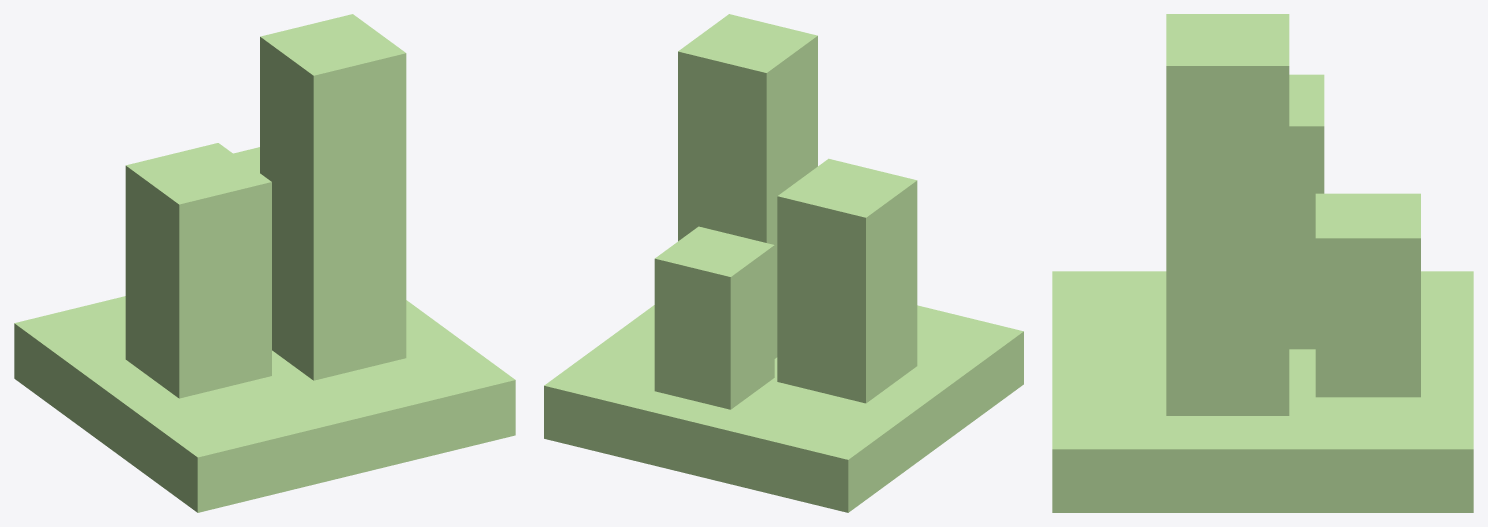
The model's file is resource.gltf.
3 renders of one model, left to right at view 1: azimuth 30°, elevation 25°; view 2: azimuth 150°, elevation 25°; view 3: azimuth 270°, elevation 25°, orthographic. The views are drawn at different scales.
Parts seen in each view (by area): view 1: resource; view 2: resource; view 3: resource.
Boxes of the visible parts, box(x1,y1,x2,y2) form: resource: box(14, 14, 515, 512); resource: box(544, 14, 1023, 512); resource: box(1052, 14, 1473, 512).
Size of the model in its own units: 1.2 by 1.3 by 1.2.
